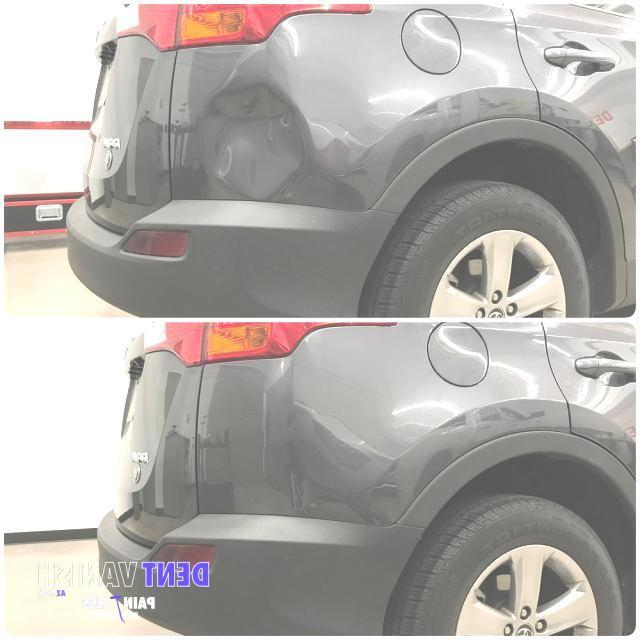minor: (180, 67, 317, 205)
